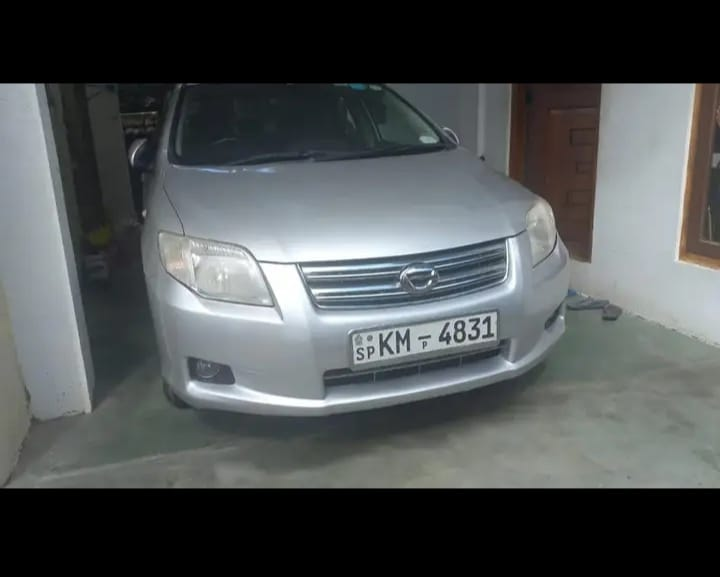number_plate: (351, 311, 495, 362)
